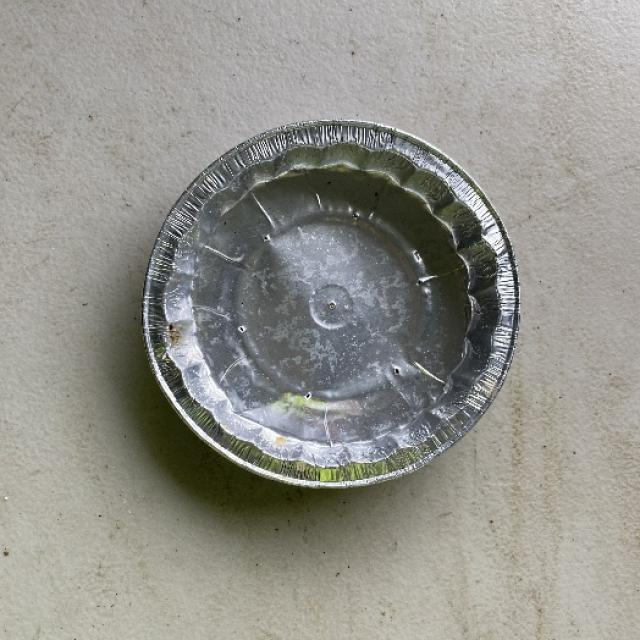metal: (140, 117, 520, 489)
